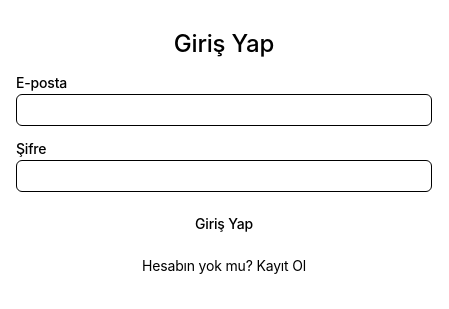
it: LoginPage › yanlış şifrede hata mesajı göstermeli
The width and height of the screenshot is (449, 309).
Type "test@example.com" into the field labelled "E-posta" at (224, 110), box x1=16 y1=94 x2=432 y2=126
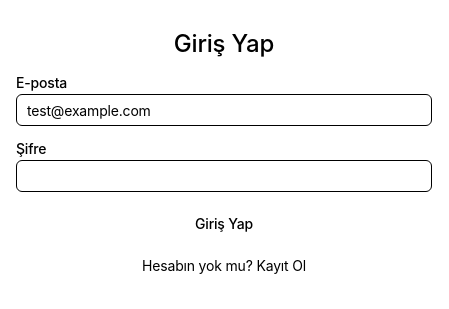
Type "yanlis-sifre" into the password field labelled "Şifre" at (224, 176), box x1=16 y1=160 x2=432 y2=192
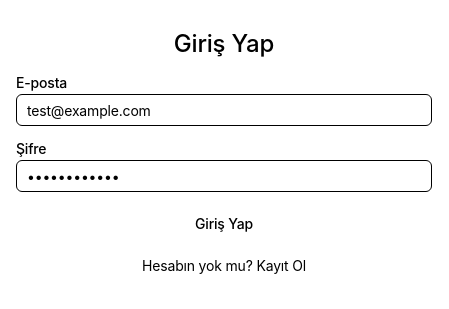
Click the button "Giriş Yap" at (224, 224), box x1=16 y1=208 x2=432 y2=240
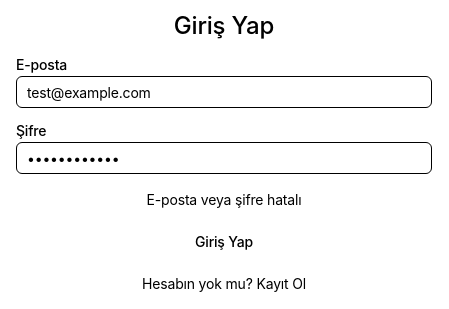
Expected: the text "E-posta veya şifre hatalı" is shown, x1=147 y1=191 x2=302 y2=208
